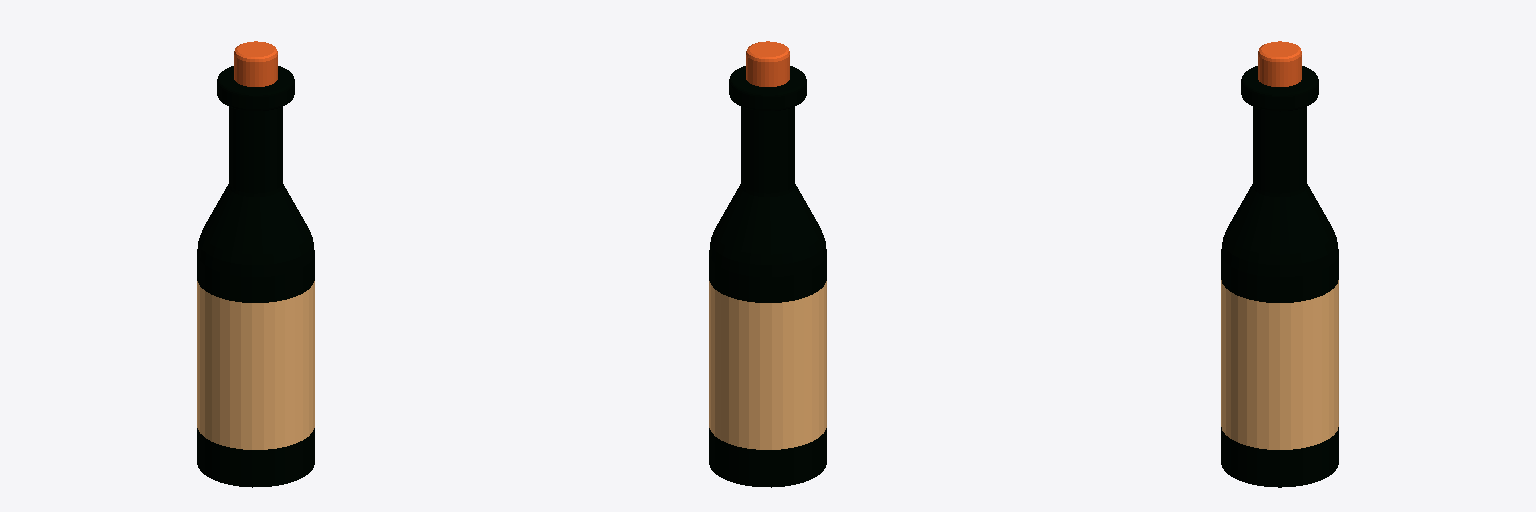
The model's file is Bottle_Small.obj.
3 views of the same model, side by side, from view 1: azimuth 30°, elevation 25°; view 2: azimuth 150°, elevation 25°; view 3: azimuth 270°, elevation 25° (orthographic).
Visible parts, largest first — view 1: Bottle_Cylinder.018; view 2: Bottle_Cylinder.018; view 3: Bottle_Cylinder.018.
Part boxes in pixels (x1,y1,x2,y2): Bottle_Cylinder.018: (197, 41, 314, 487); Bottle_Cylinder.018: (709, 41, 826, 487); Bottle_Cylinder.018: (1221, 41, 1338, 487).
Bounding box in the file's own units: 9.56 × 36.97 × 9.56.